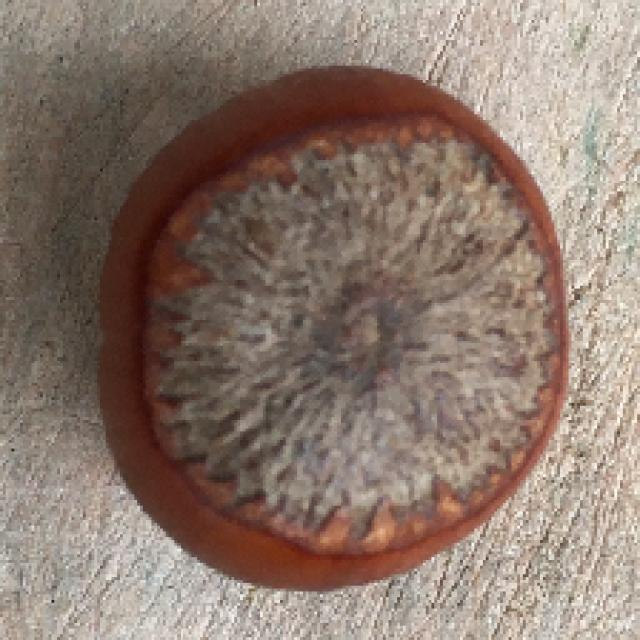QualityHazelnut: (97, 66, 573, 595)
